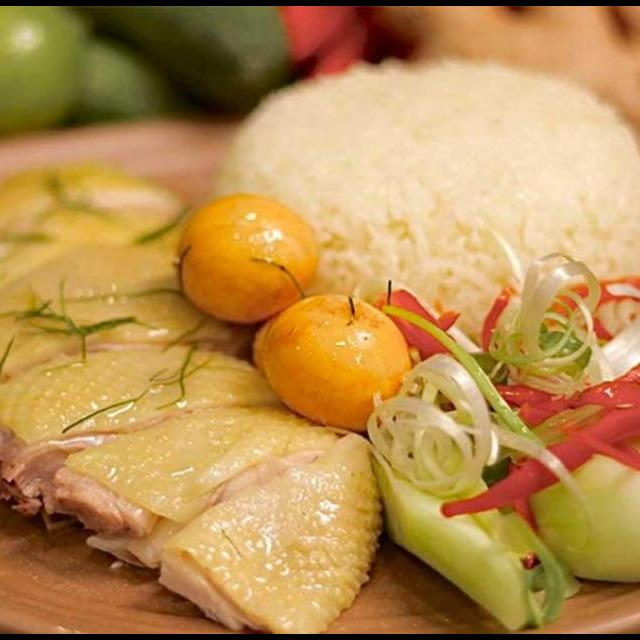com: (203, 53, 640, 344)
com ga: (0, 47, 640, 634)
thit ga: (21, 393, 389, 634), (0, 144, 251, 417), (0, 333, 294, 530)
trung: (247, 287, 418, 440), (169, 184, 326, 324)
